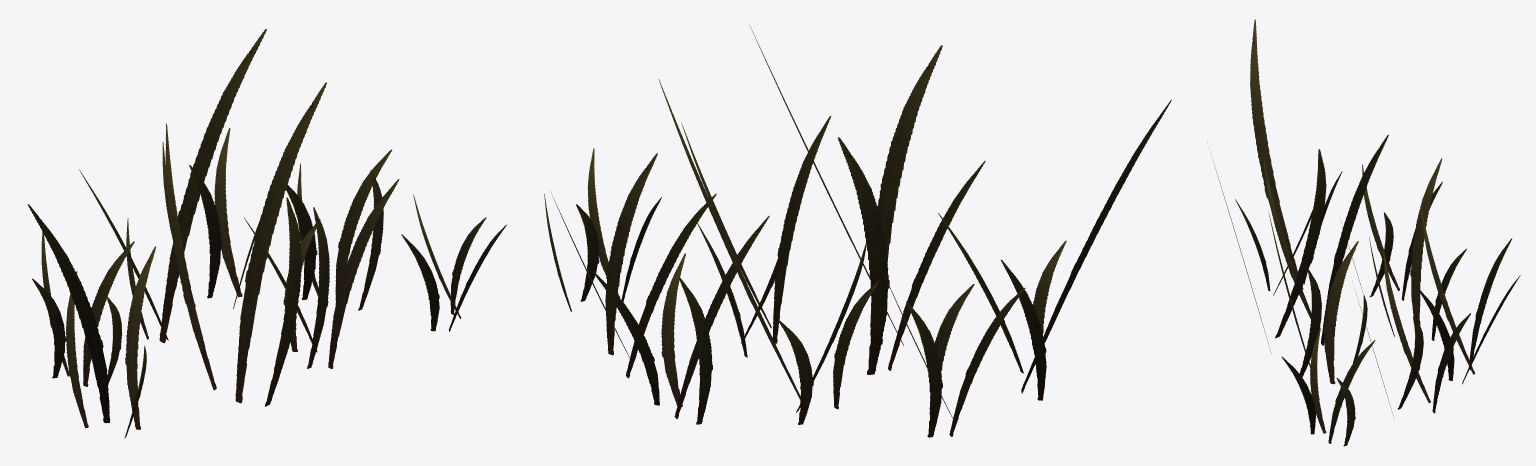
The model's file is grass1.glb.
3 views of the same model, side by side, from view 1: azimuth 30°, elevation 25°; view 2: azimuth 150°, elevation 25°; view 3: azimuth 270°, elevation 25° (orthographic). The views are drawn at different scales.
Parts seen in each view (by area): view 1: mid-material.001; view 2: mid-material.001; view 3: mid-material.001.
Boxes of the visible parts, x1,y1,x2,y2 form: mid-material.001: (27,29,506,438); mid-material.001: (544,24,1171,437); mid-material.001: (1211,19,1520,446).
Bounding box in the file's own units: 0.5931 × 0.3125 × 0.3672.
1 material, 1 textured.
